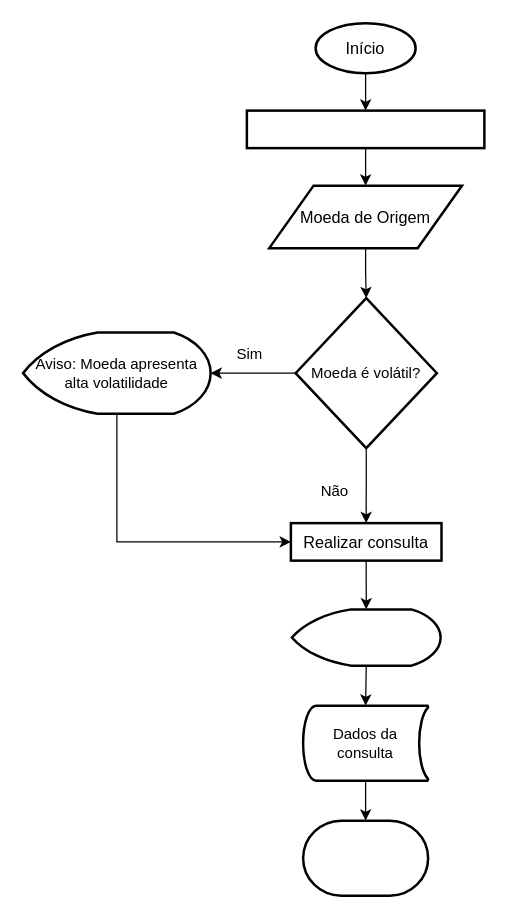
Some shapes in this 506 by 918 pixel diagram are drawn without their labels. The shapes that lost their labels are listed below. From the top down, each one's centre as x and y in pixels, then its label:
(x=365, y=129): Montar estrutura de consulta
(x=365, y=637): Taxas de Câmbio
(x=365, y=857): Fim
